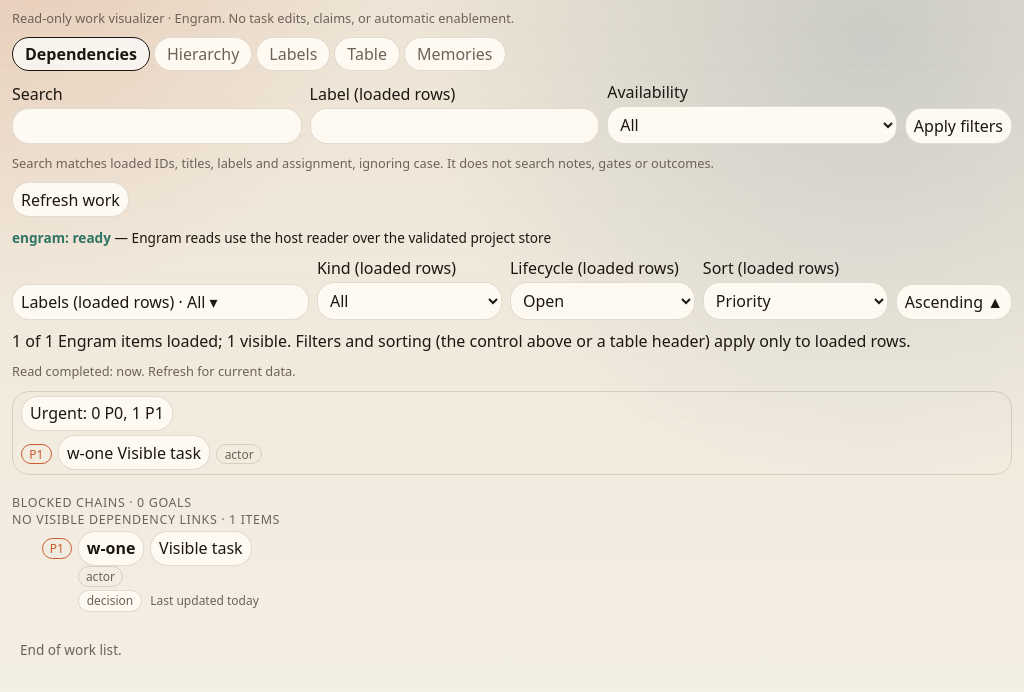
Test: WorkPanel › rejects a successful notes continuation with changed projectPosition
The width and height of the screenshot is (1024, 692).
Click the button with aria-label "w-one — Visible task" at point(201, 548), box [150, 531, 252, 566]
(page scrolled)
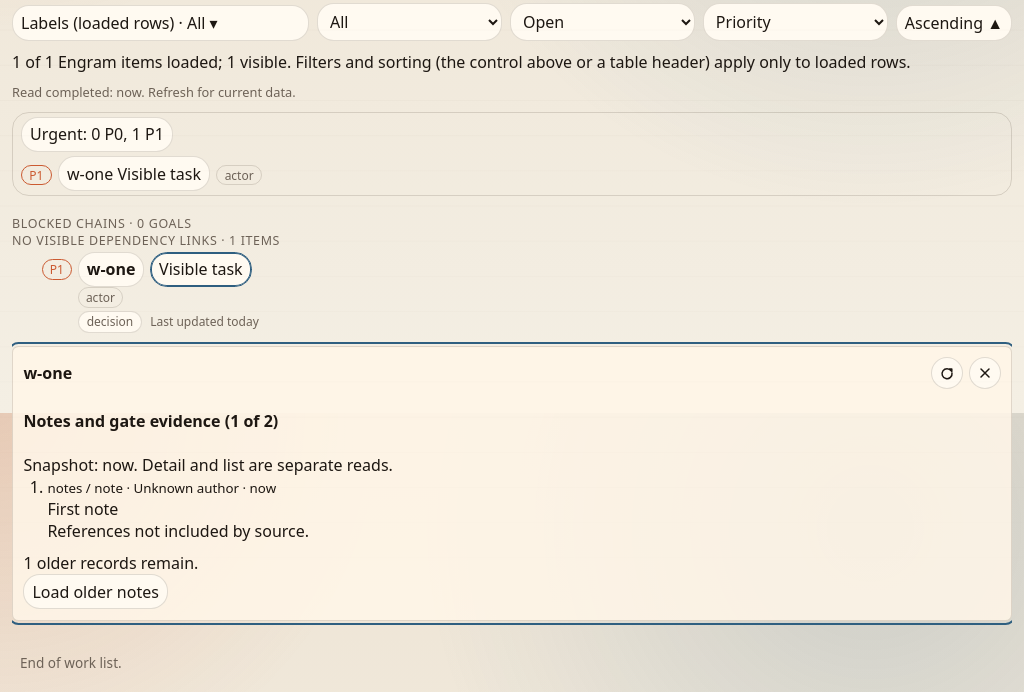
Click the button "Load older notes" at point(96, 592), box [23, 574, 168, 609]
(page scrolled)
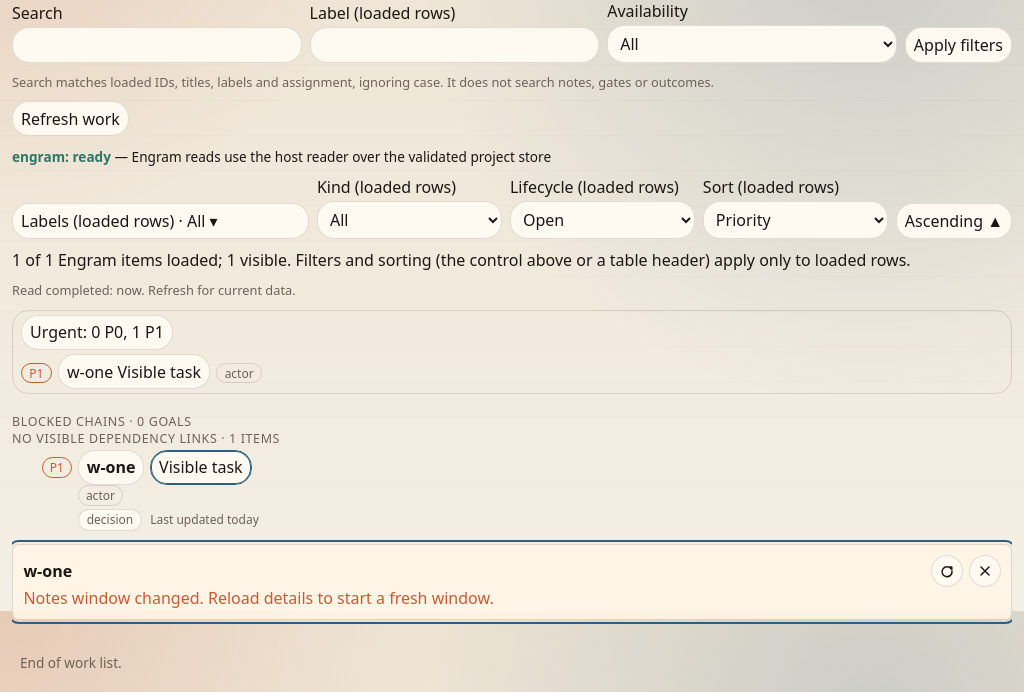
Check: the message shows "Notes window changed. Reload details", box [23, 587, 494, 609]
Check: the text "First note" is gone
Check: the button "Load older notes" is gone
